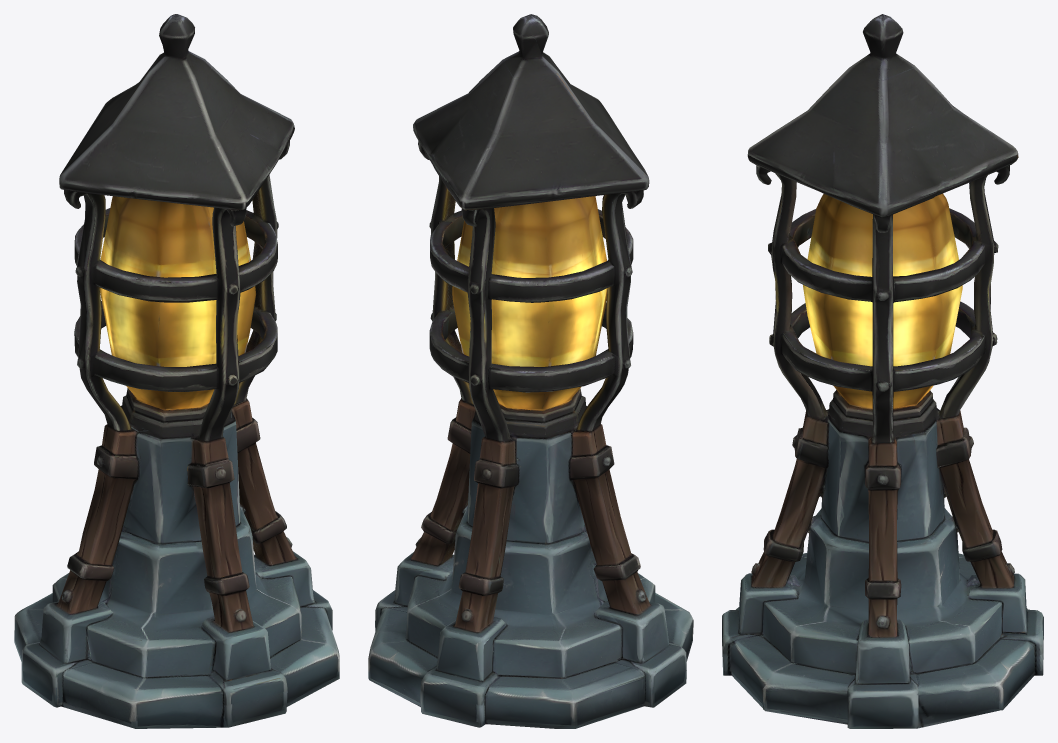
Rendered from mesh_first_lantern_a.glb.
3 renders of one model, left to right at view 1: azimuth 30°, elevation 25°; view 2: azimuth 150°, elevation 25°; view 3: azimuth 270°, elevation 25°, orthographic.
Parts seen in each view (by area): view 1: mesh_first_lantern_a__mesh_first_lantern_a__Mesh_0; view 2: mesh_first_lantern_a__mesh_first_lantern_a__Mesh_0; view 3: mesh_first_lantern_a__mesh_first_lantern_a__Mesh_0.
Part boxes in pixels (x1,y1,x2,y2): mesh_first_lantern_a__mesh_first_lantern_a__Mesh_0: (14,14,339,728); mesh_first_lantern_a__mesh_first_lantern_a__Mesh_0: (368,14,693,728); mesh_first_lantern_a__mesh_first_lantern_a__Mesh_0: (722,14,1043,728).
Size of the model in its own units: 4.96 by 11 by 4.97.
1 material, 1 textured.
